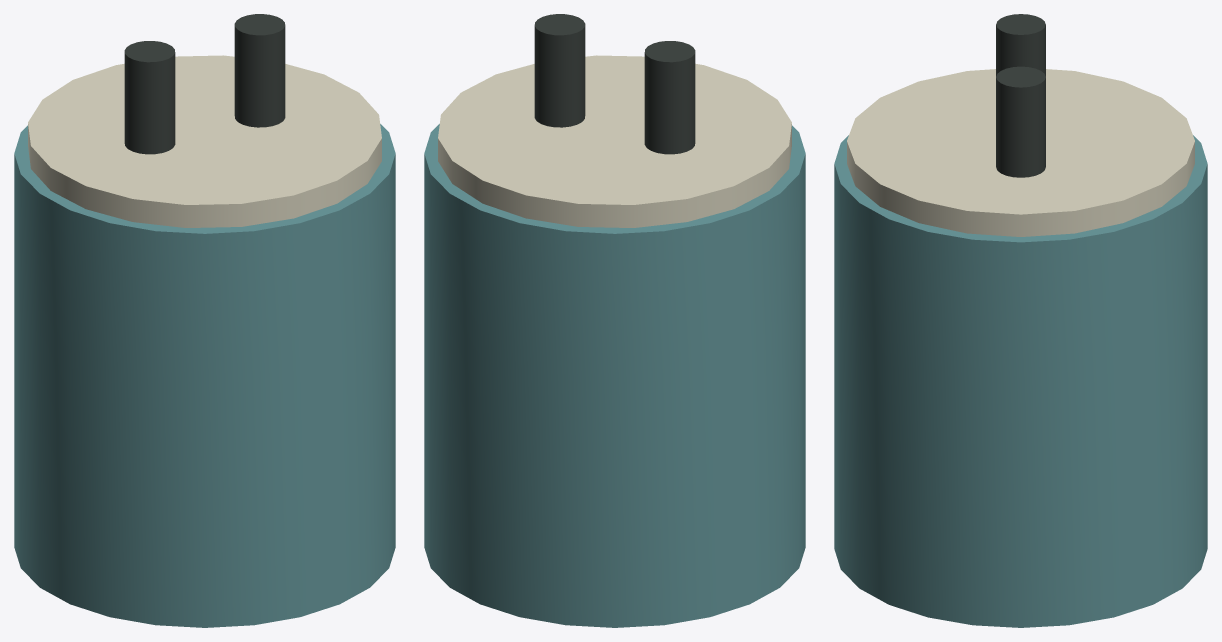
Rendered from survival-greenhouse-and-irrigation-cutting-propagation-ec0c3906__21332.glb.
The picture shows the model from 3 angles, left to right: view 1: azimuth 30°, elevation 25°; view 2: azimuth 150°, elevation 25°; view 3: azimuth 270°, elevation 25°; orthographic projection. The views are drawn at different scales.
Parts seen in each view (by area): view 1: cutting-propagation-jar; view 2: cutting-propagation-jar; view 3: cutting-propagation-jar.
Part boxes in pixels (x1,y1,x2,y2): cutting-propagation-jar: (14,14,395,627); cutting-propagation-jar: (424,14,805,627); cutting-propagation-jar: (834,14,1207,627).
Size of the model in its own units: 0.15 by 0.23 by 0.15.
